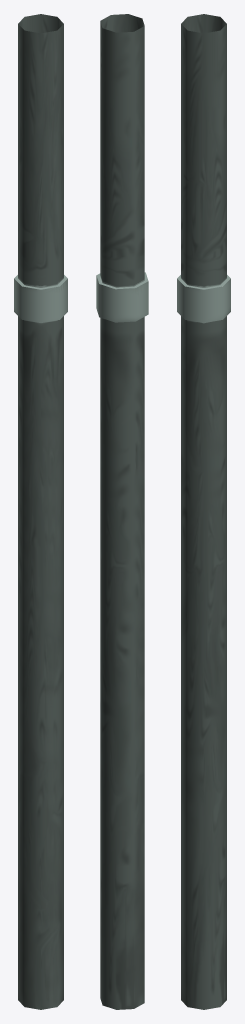
Rendered from StreetStructures_Poste.fbx.
3 views of the same model, side by side, from view 1: azimuth 90°, elevation 25°; view 2: azimuth 210°, elevation 25°; view 3: azimuth 270°, elevation 25° (orthographic).
Parts seen in each view (by area): view 1: Poste; view 2: Poste; view 3: Poste.
Boxes of the visible parts, x1,y1,x2,y2 form: Poste: (14, 14, 67, 1009); Poste: (96, 14, 148, 1009); Poste: (177, 14, 230, 1009).
Bounding box in the file's own units: 65.77 × 1317 × 65.77.
